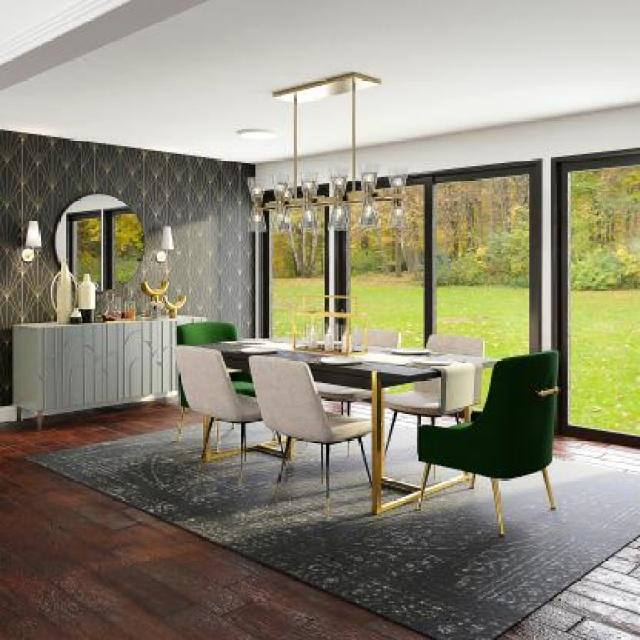floor: (0, 390, 640, 640), (386, 413, 425, 487), (246, 421, 271, 449), (426, 466, 461, 486), (219, 420, 240, 450), (379, 485, 409, 504), (361, 433, 372, 478), (257, 431, 281, 450), (385, 407, 394, 447), (351, 402, 372, 418), (321, 398, 341, 414), (211, 424, 219, 458), (212, 449, 238, 459), (435, 417, 457, 427), (420, 416, 433, 426), (344, 403, 347, 415)
